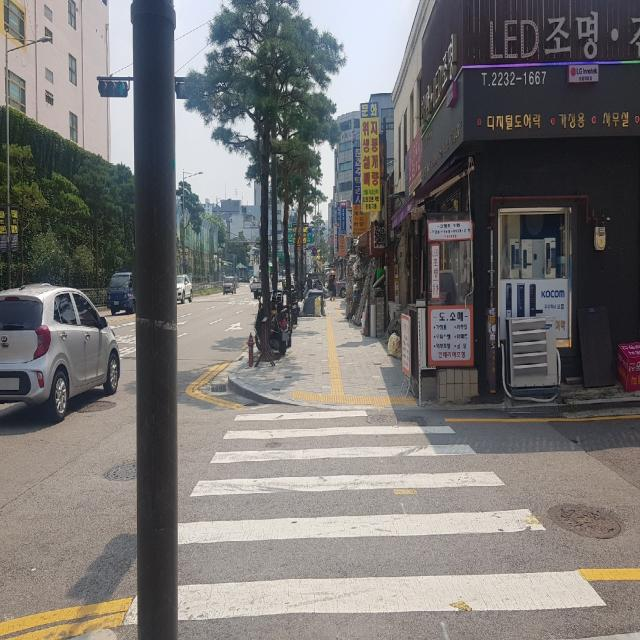횡단보도: (121, 408, 609, 632)
